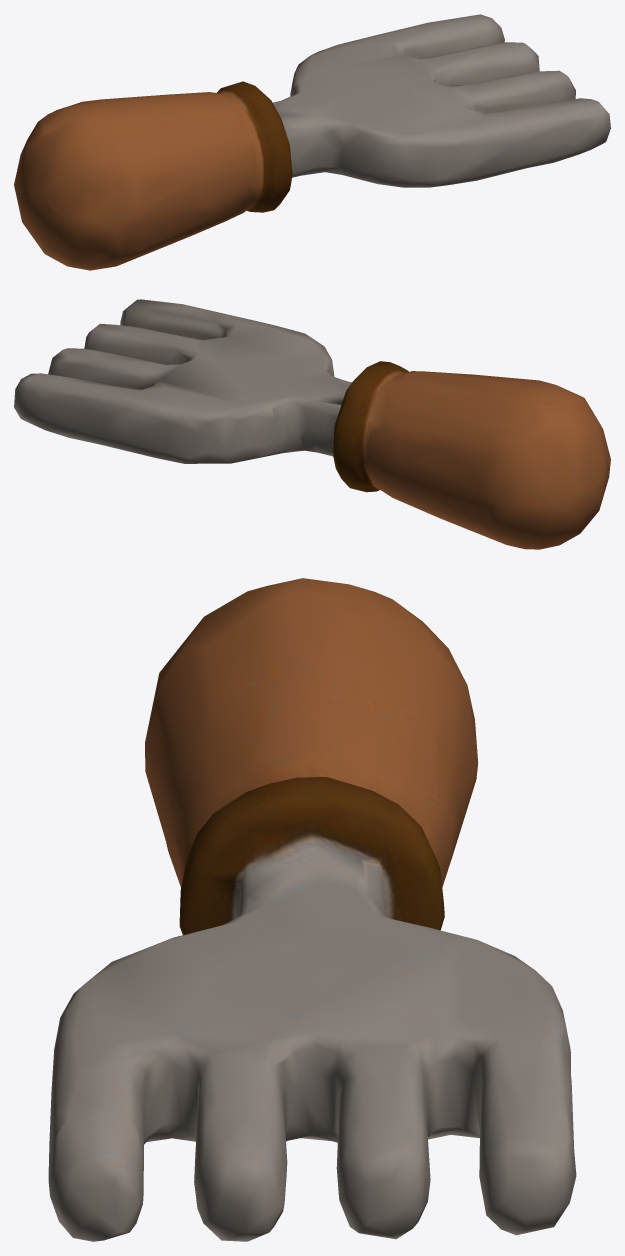
The model's file is IT_사물_s4_dessert_part_fork_granita.glb.
3 renders of one model, top to bottom at view 1: azimuth 30°, elevation 25°; view 2: azimuth 150°, elevation 25°; view 3: azimuth 270°, elevation 25°, orthographic. The views are drawn at different scales.
Visible parts, largest first — view 1: tripo_node_4b2c6808-a733-46f3-b924-1c68b6b0443b; view 2: tripo_node_4b2c6808-a733-46f3-b924-1c68b6b0443b; view 3: tripo_node_4b2c6808-a733-46f3-b924-1c68b6b0443b.
Boxes of the visible parts, <box> form: tripo_node_4b2c6808-a733-46f3-b924-1c68b6b0443b: <box>14,14,610,270</box>; tripo_node_4b2c6808-a733-46f3-b924-1c68b6b0443b: <box>14,299,610,549</box>; tripo_node_4b2c6808-a733-46f3-b924-1c68b6b0443b: <box>48,578,576,1241</box>.
Bounding box in the file's own units: 0.45 × 0.1259 × 0.1948.
1 material, 1 textured.
